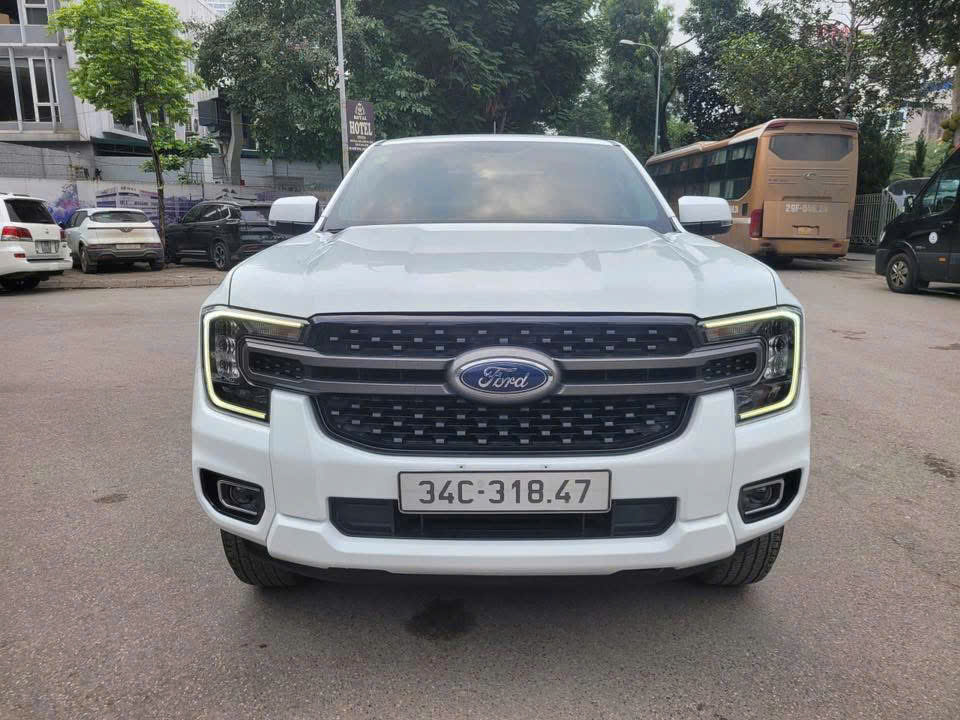Bien-so: (393, 467, 616, 517)
